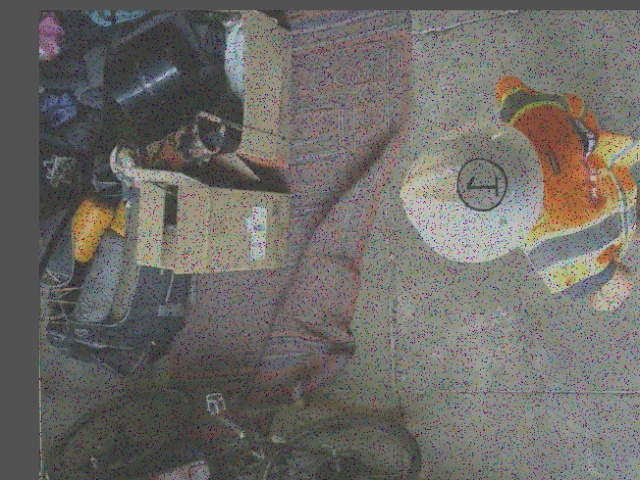one: (456, 158, 506, 210)
